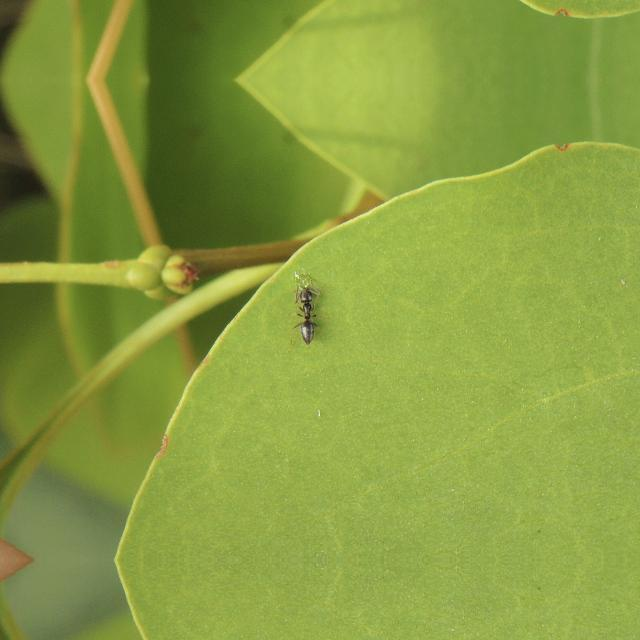Tapinoma: (279, 279, 333, 351)
